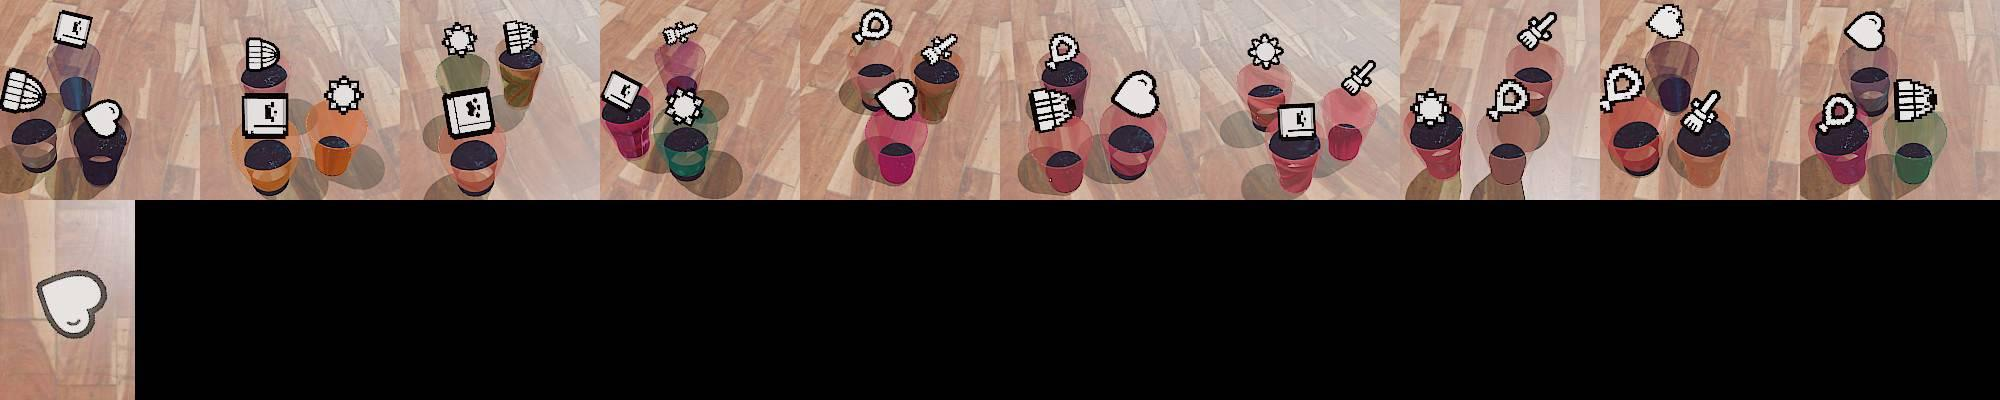icon: (34, 269, 110, 339), (441, 87, 495, 139), (1599, 61, 1647, 115), (241, 92, 291, 140), (1110, 69, 1159, 117), (1027, 85, 1077, 131), (1, 68, 47, 113), (601, 70, 645, 116), (1486, 80, 1532, 124), (872, 78, 918, 121), (663, 82, 707, 126), (1680, 88, 1722, 132), (1517, 10, 1560, 52), (1894, 78, 1937, 120), (1276, 102, 1318, 143), (1819, 93, 1860, 135), (323, 75, 365, 116), (1843, 11, 1885, 52), (1409, 87, 1452, 126), (54, 9, 93, 50), (851, 6, 893, 45), (1647, 3, 1685, 42), (83, 98, 122, 136), (918, 31, 959, 68), (441, 20, 480, 59), (1246, 32, 1284, 69), (1045, 32, 1080, 71), (501, 20, 538, 57), (1341, 59, 1376, 97), (245, 36, 281, 73), (661, 19, 699, 46), (1598, 97, 1612, 113)
